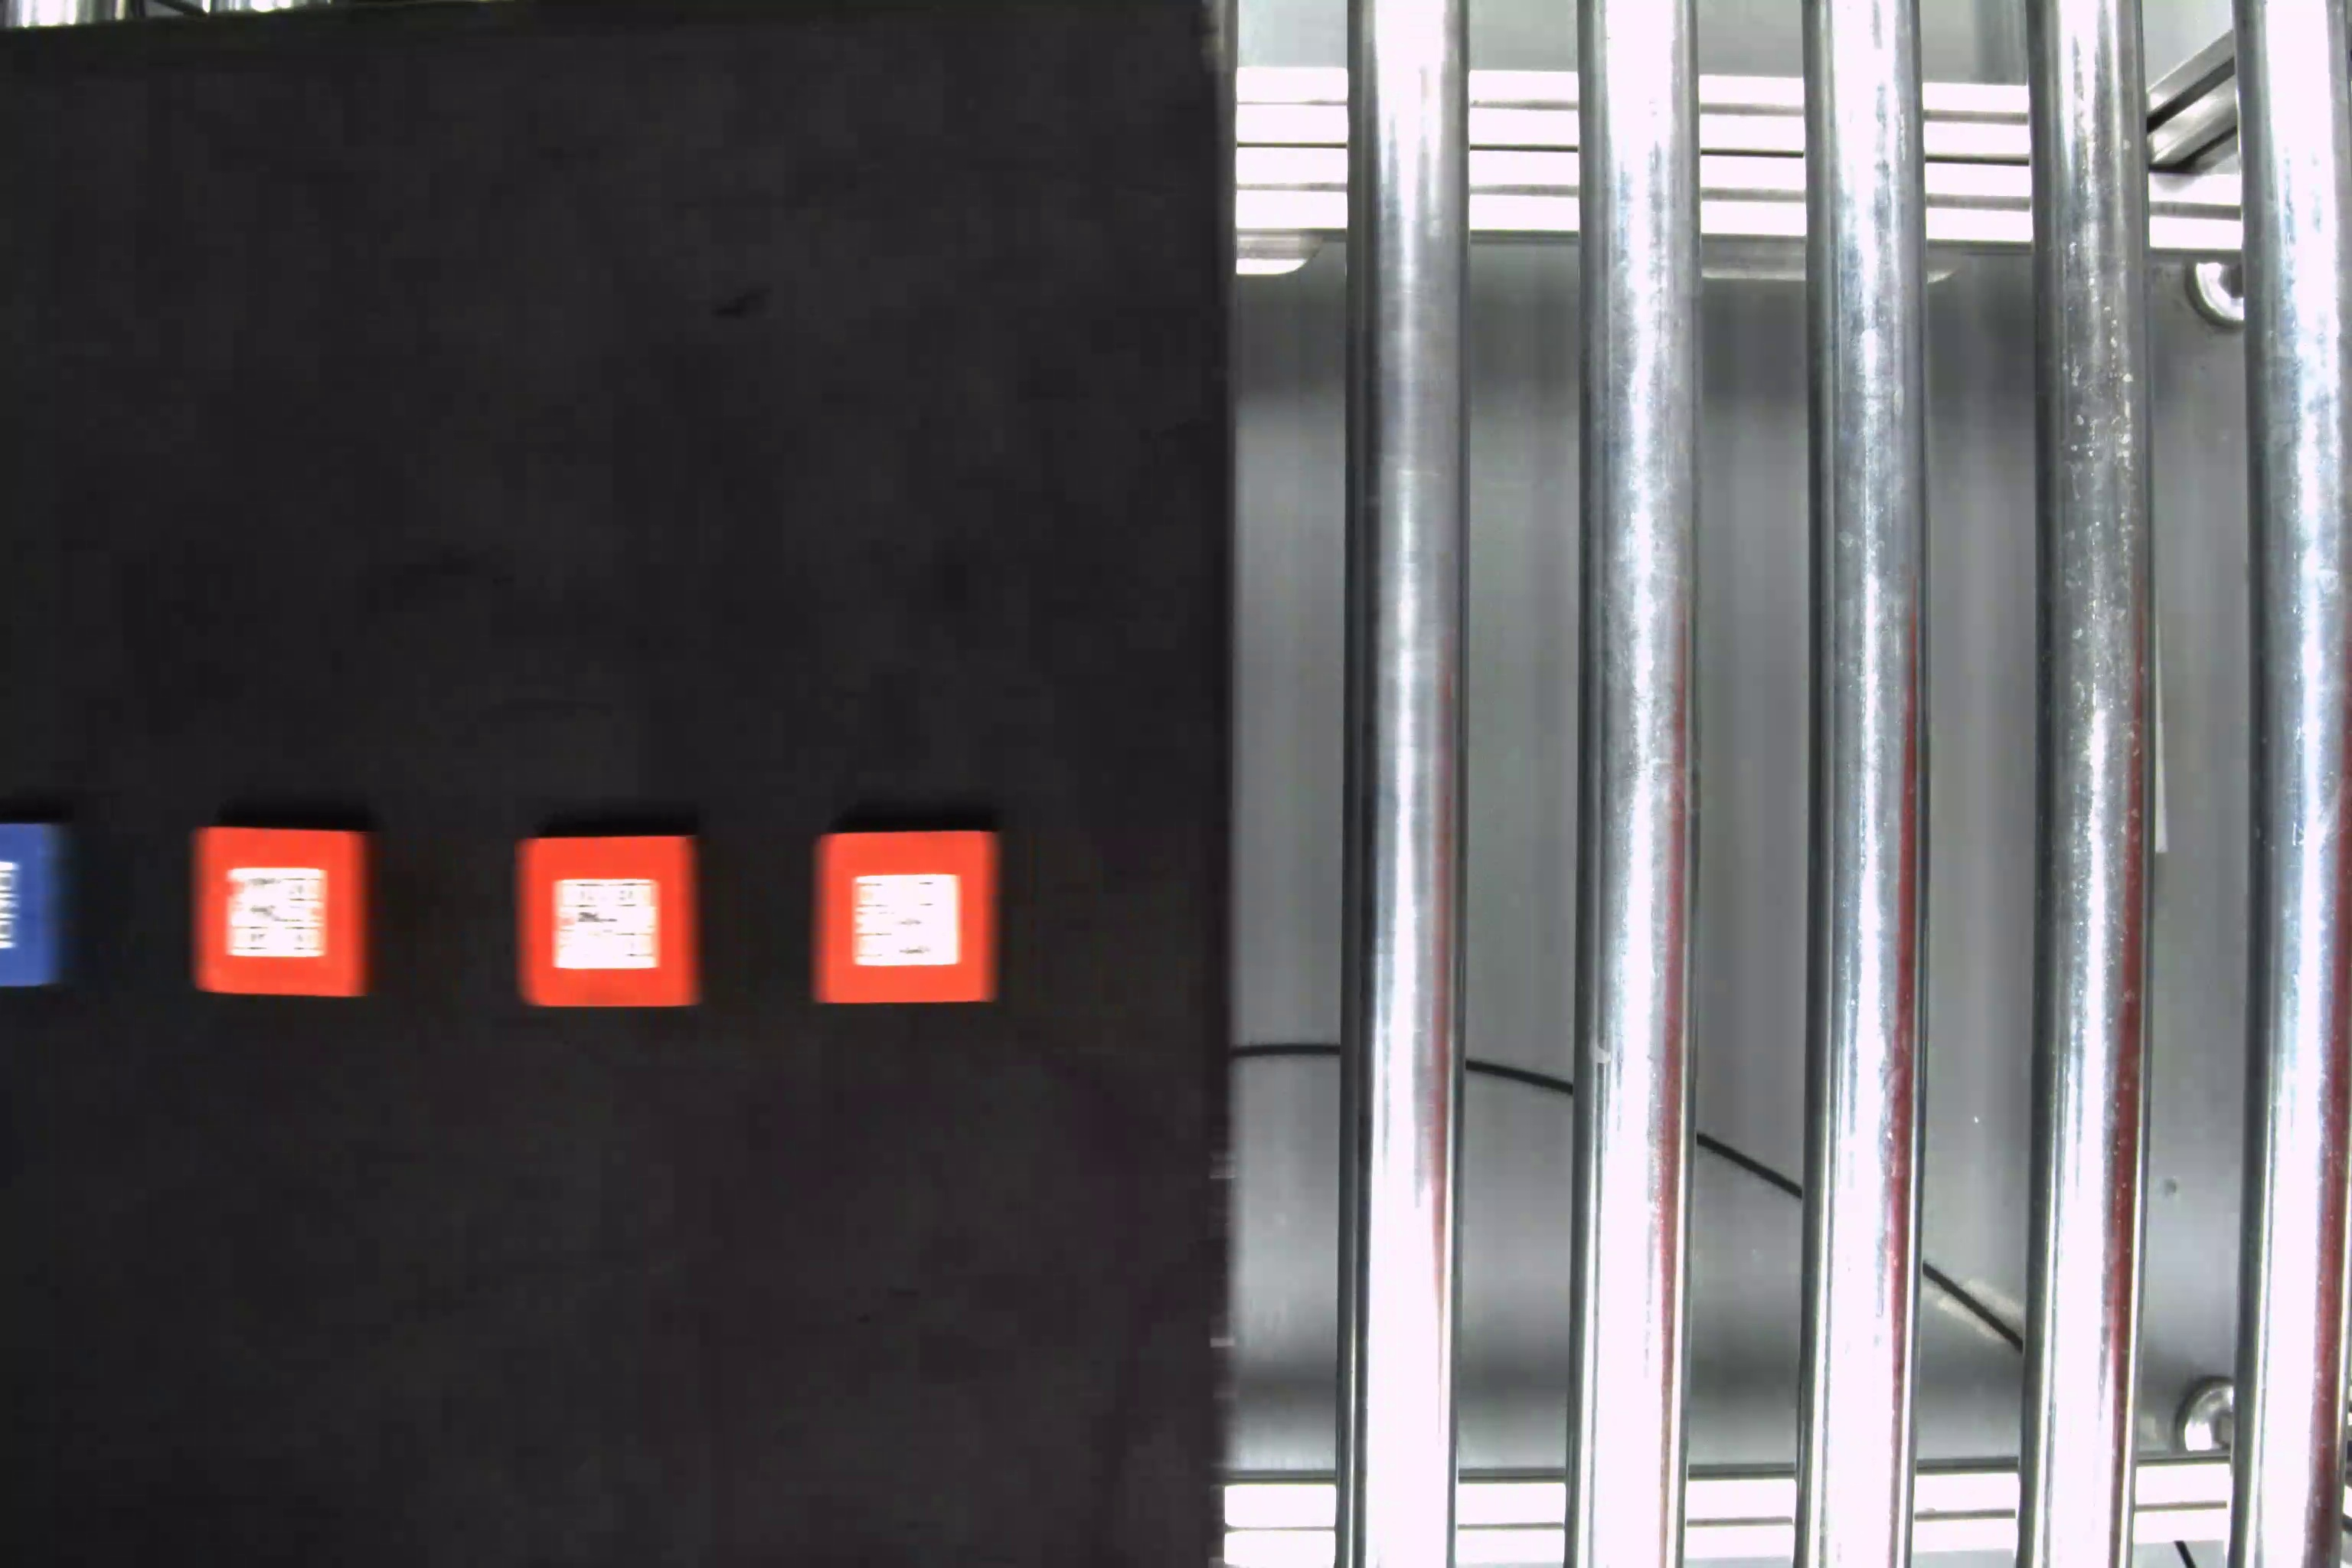wood: (189, 821, 380, 1008), (812, 831, 1011, 1008), (516, 831, 707, 1011), (3, 822, 80, 987)
